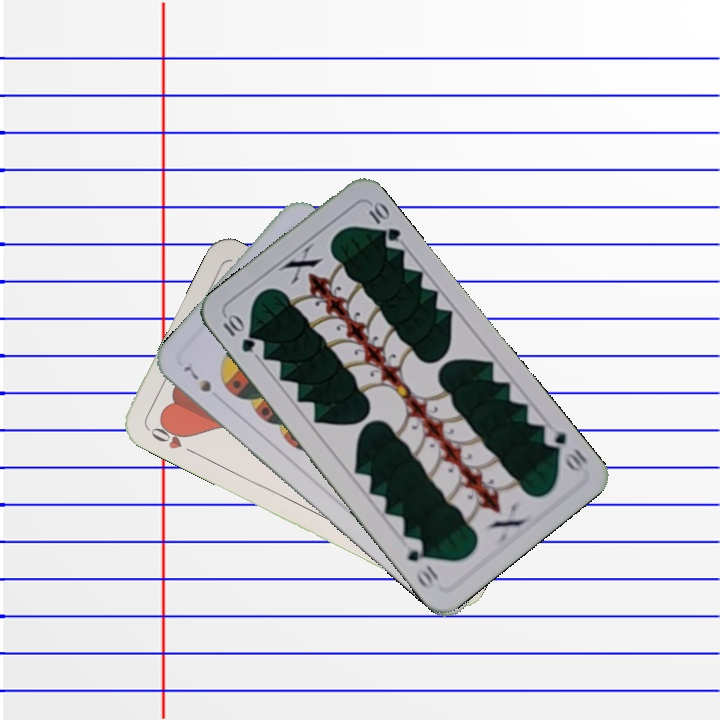G10: (539, 422, 590, 476), (219, 310, 258, 356)
HO: (144, 418, 200, 458)
S7: (179, 361, 214, 395)
